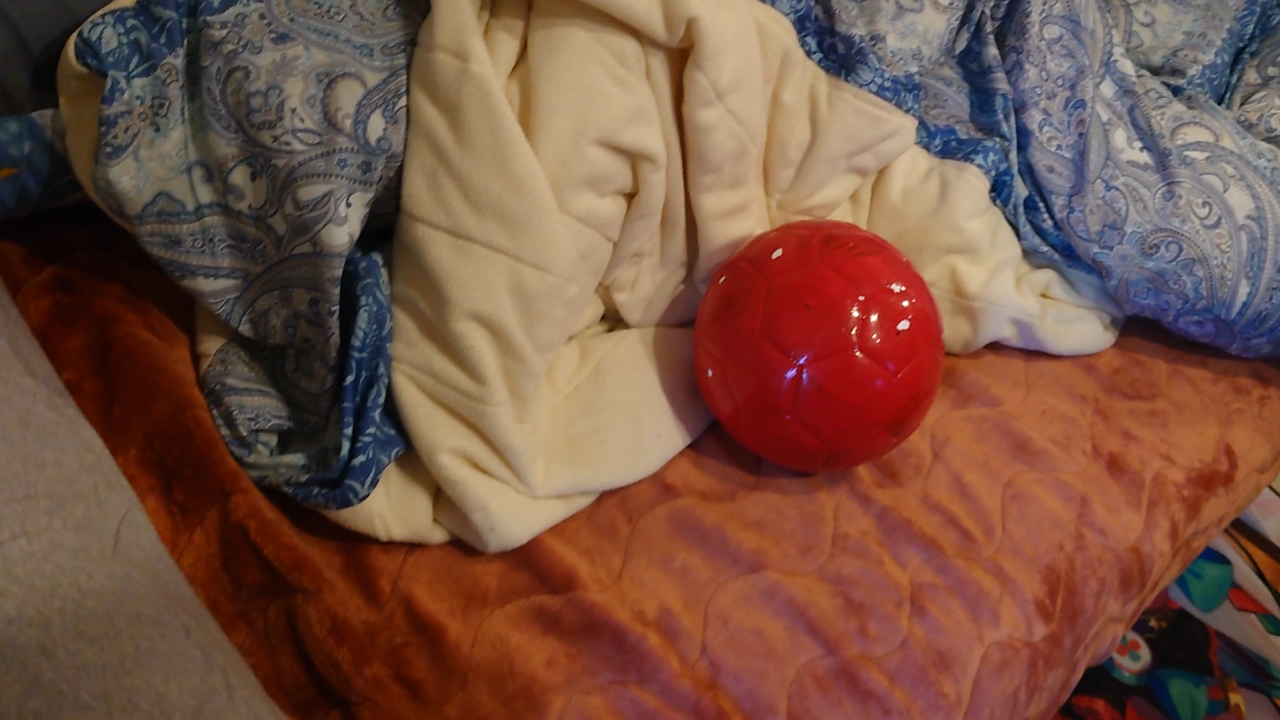red: (685, 221, 942, 472)
